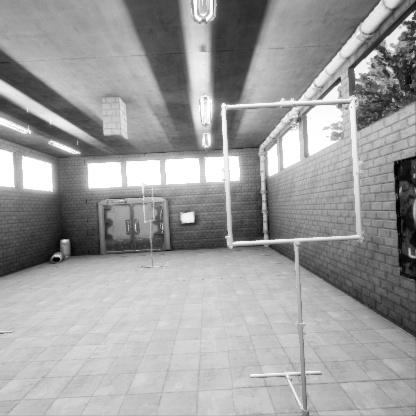gate: (225, 174, 377, 326), (142, 194, 154, 234)
